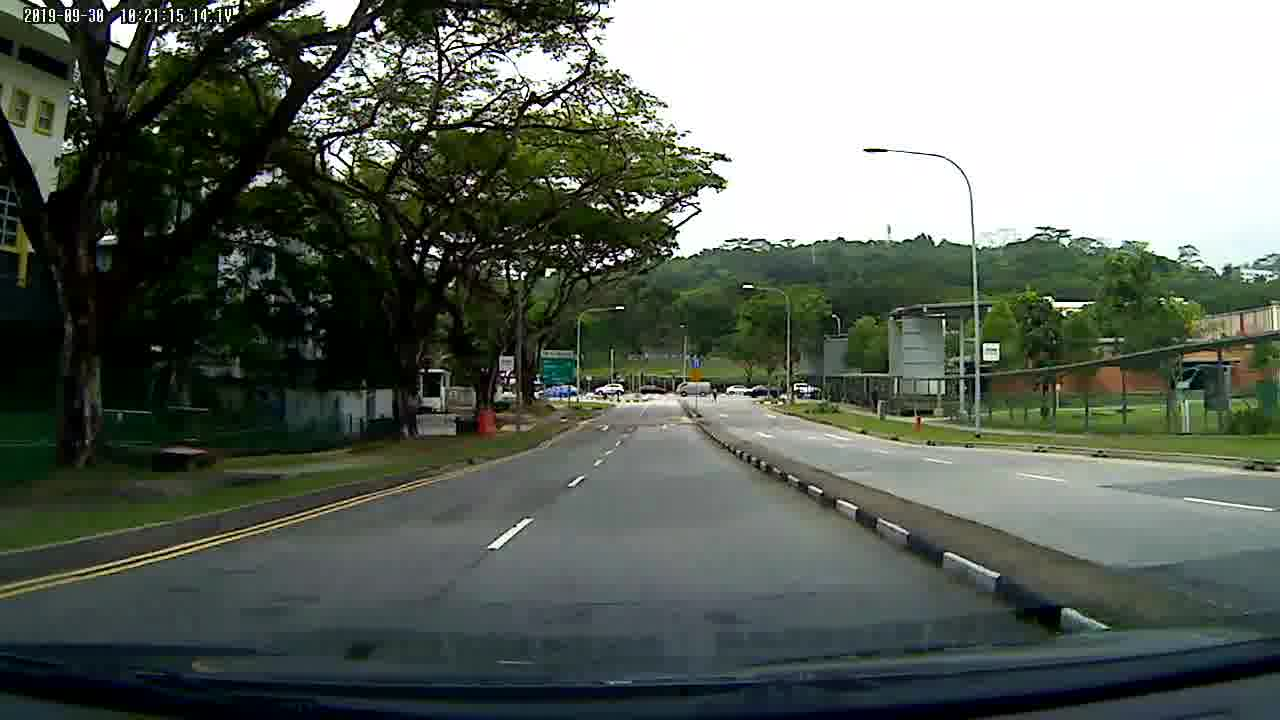car: (595, 381, 626, 399)
